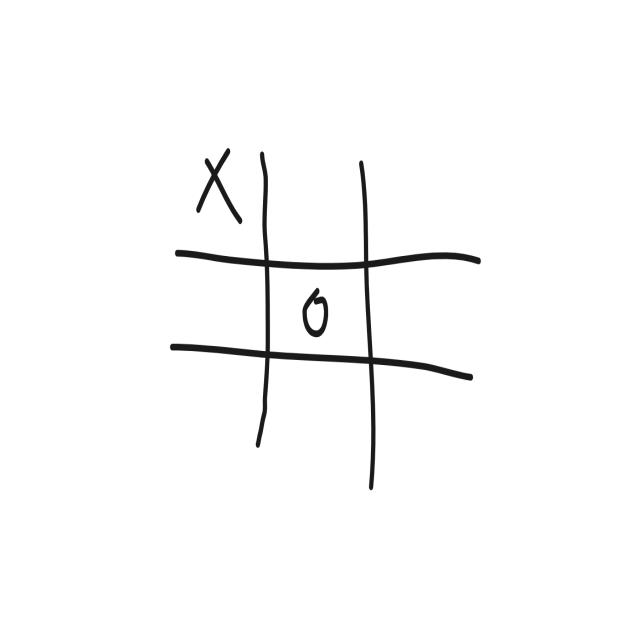O: (295, 280, 338, 338)
X: (186, 143, 245, 222)
grid: (165, 136, 492, 497)
